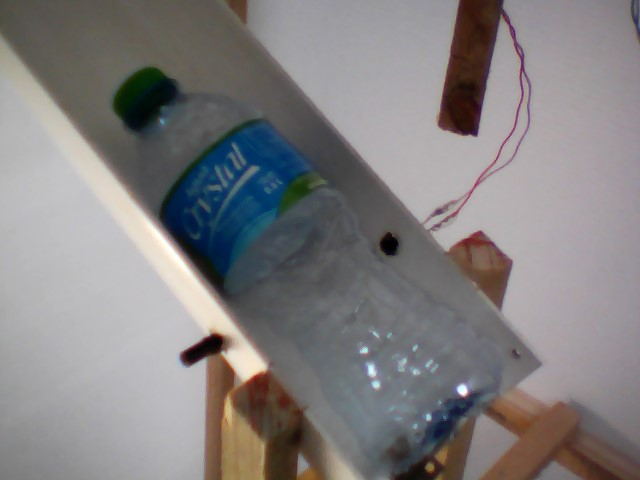plastico: (106, 64, 516, 480)
